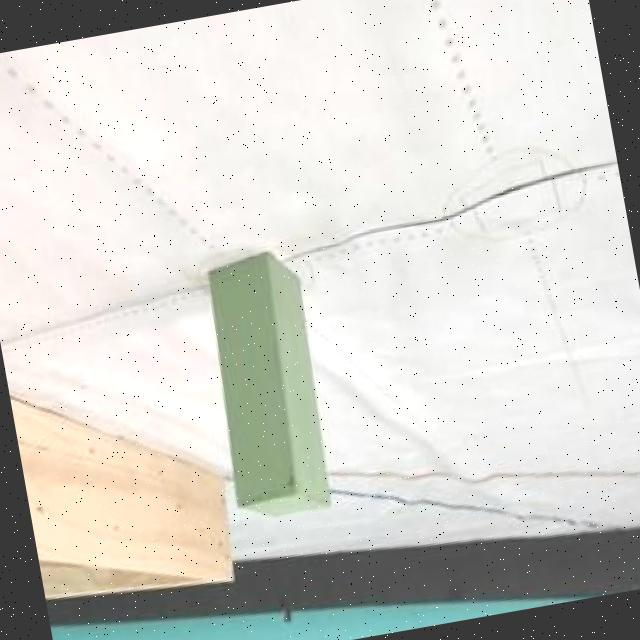greenbox: (194, 243, 338, 524)
